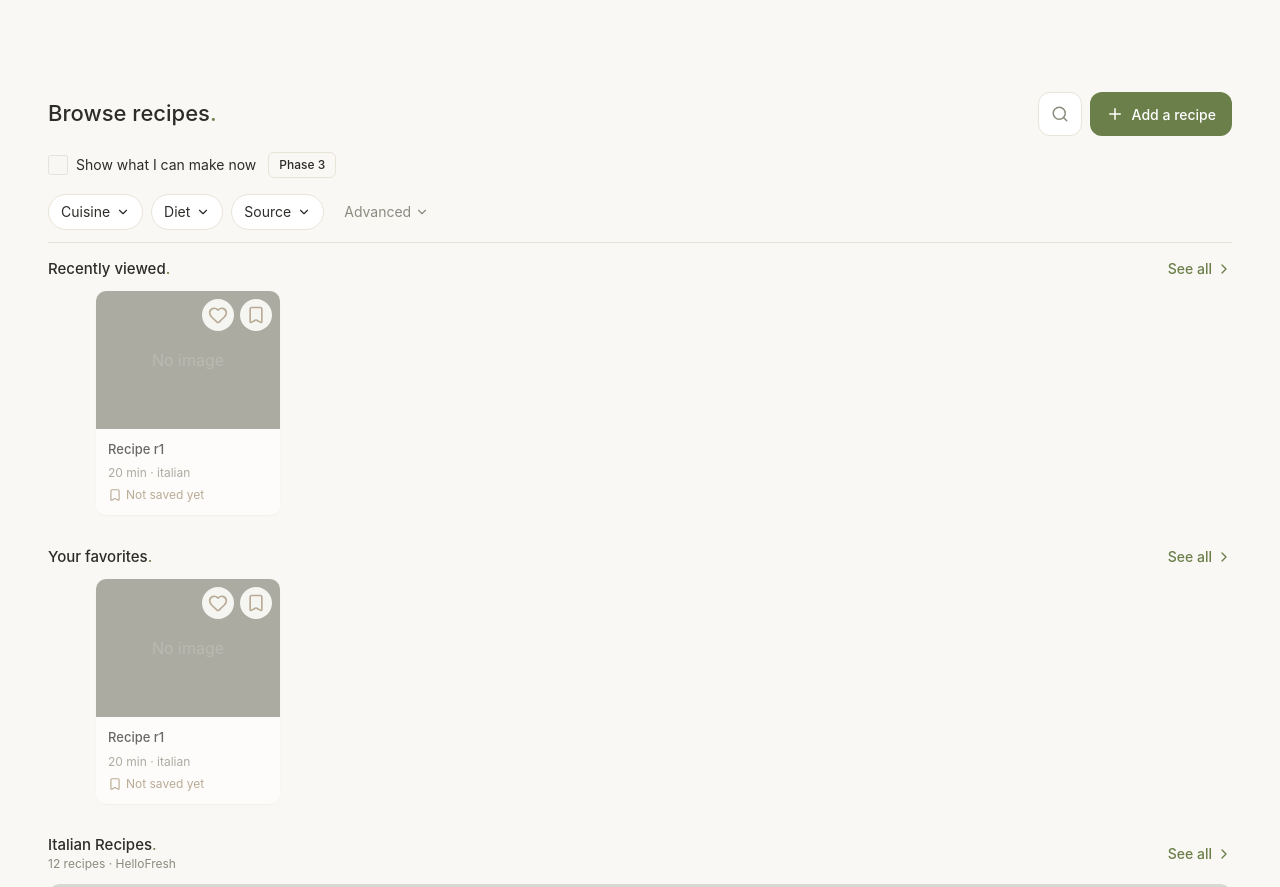
Test: Recipes page — themes › theme page ("See all") › shows every list in the theme under Recently viewed, and none of the user's other rows
The image size is (1280, 887).
What coordinates should you click on to do the following:
click the button "Cuisine"
I would click on:
 (96, 212)
Its box is [48,194,143,230].
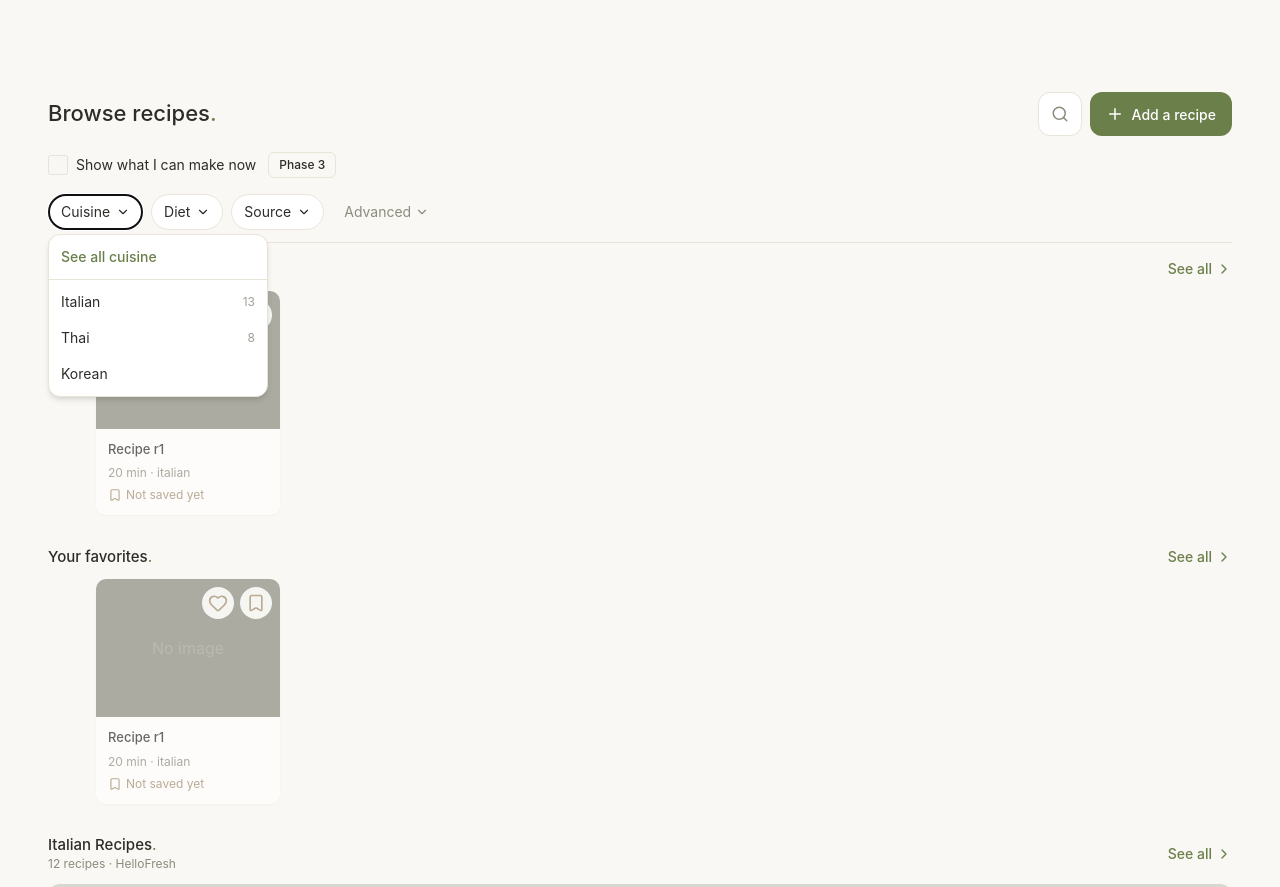
What coordinates should you click on to do the following:
click the menu item "See all cuisine"
I would click on:
 (158, 257)
Its box is [49,239,267,275].
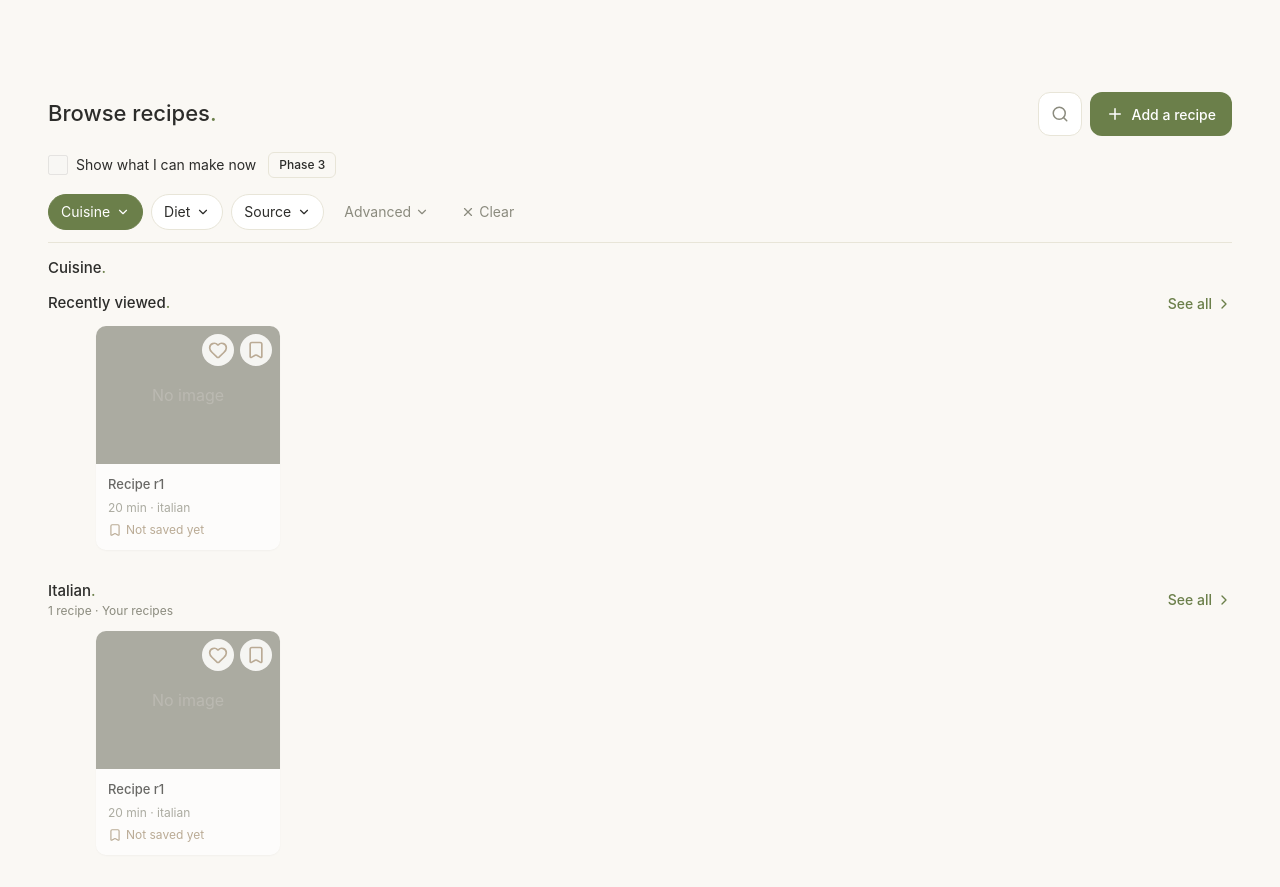
Expected: the heading "Cuisine." is shown, [48,259,106,278]
Expected: the element "Italian" is shown, [48,582,1232,863]
Expected: the heading "Your favorites" is gone
